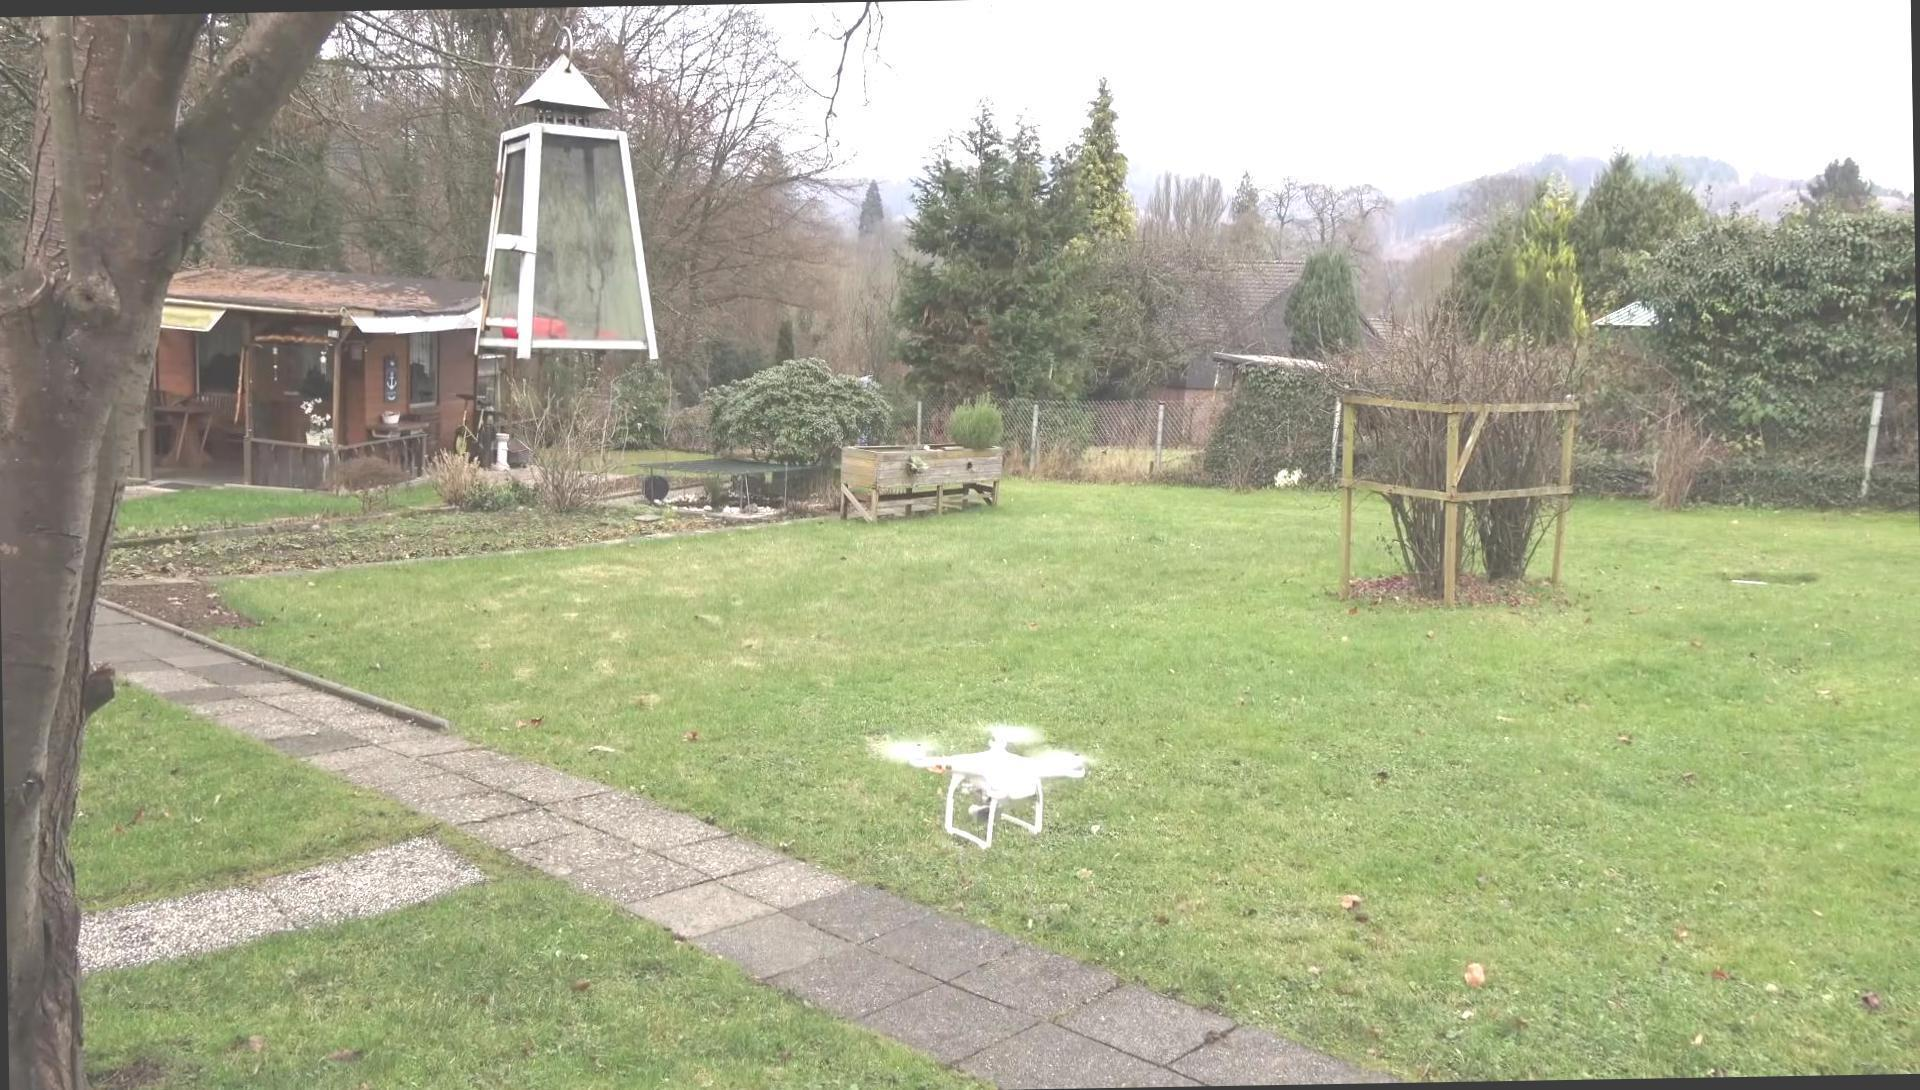drone: (878, 712, 1100, 851)
